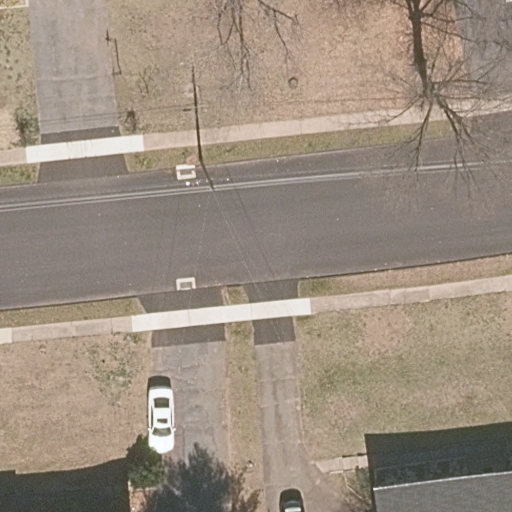DT: (194, 157, 229, 191)
